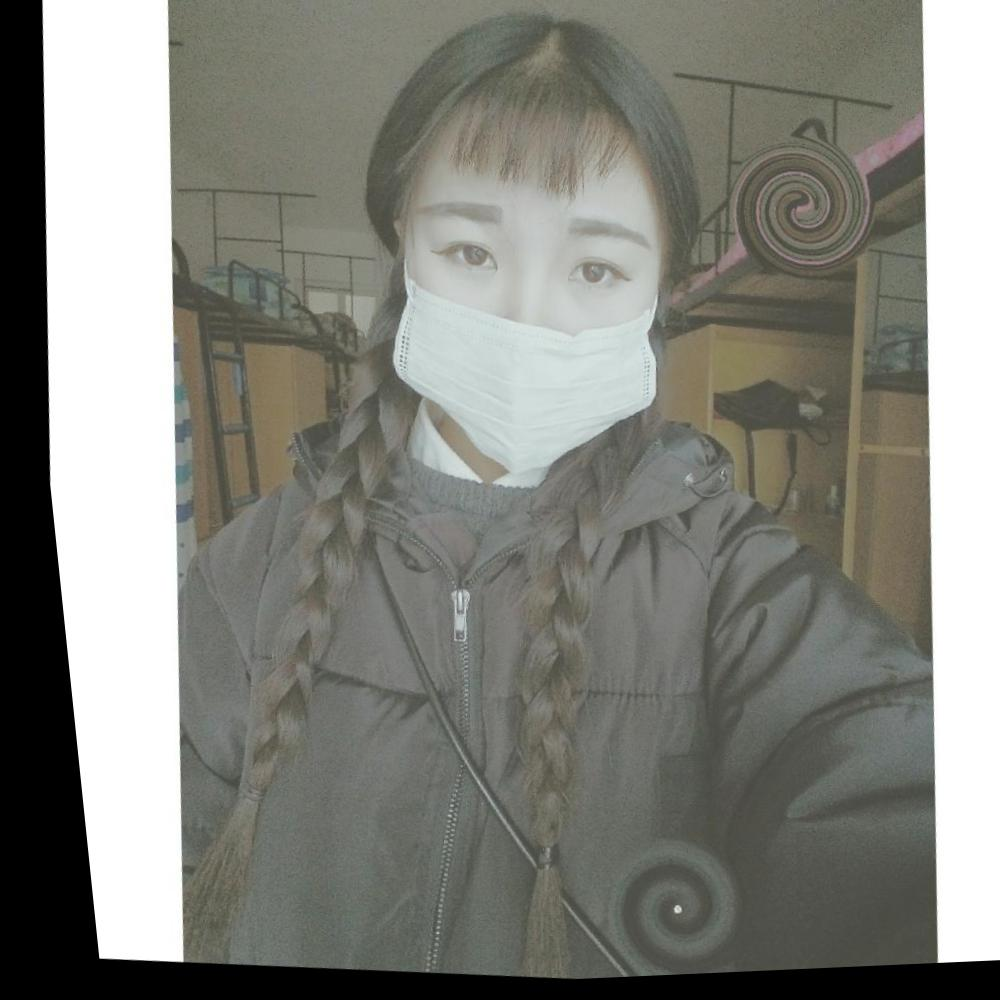WRONG: (365, 182, 685, 488)
